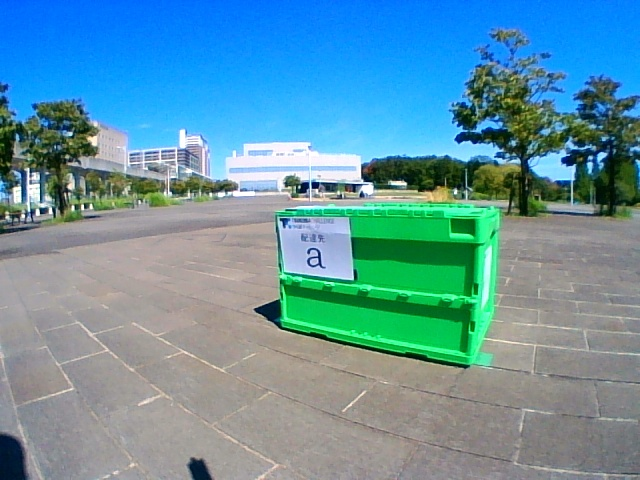green_box: (277, 203, 499, 366)
tag_a: (284, 218, 349, 274)
